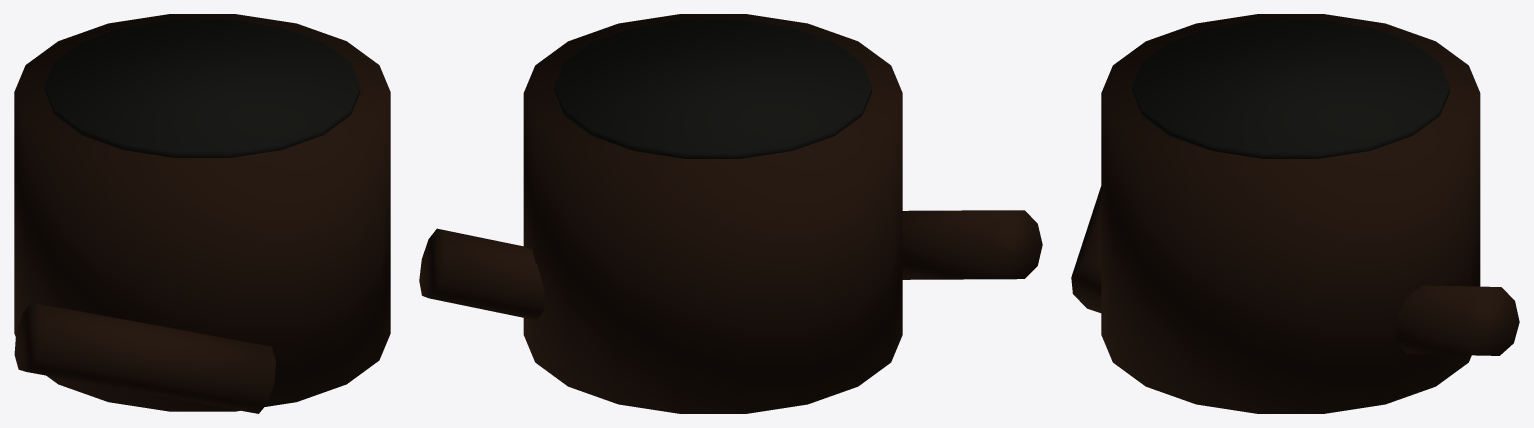
File: NatureStump.obj
3 renders of one model, left to right at view 1: azimuth 30°, elevation 25°; view 2: azimuth 150°, elevation 25°; view 3: azimuth 270°, elevation 25°, orthographic.
Visible parts, largest first — view 1: cut_oak, cut_face, root.002; view 2: cut_oak, cut_face, root.002, root.001; view 3: cut_oak, cut_face, root.001, root.002.
Part boxes in pixels (bbox=[...]): cut_oak: bbox=[14, 14, 390, 411]; cut_face: bbox=[44, 19, 360, 157]; root.002: bbox=[14, 302, 275, 413]; cut_oak: bbox=[523, 14, 902, 413]; cut_face: bbox=[554, 19, 871, 158]; root.002: bbox=[902, 210, 1042, 279]; root.001: bbox=[419, 228, 544, 320]; cut_oak: bbox=[1101, 14, 1480, 413]; cut_face: bbox=[1132, 19, 1449, 158]; root.001: bbox=[1396, 285, 1519, 355]; root.002: bbox=[1071, 186, 1101, 312].
Size of the model in its own units: 0.9388 by 0.4969 by 0.805.
